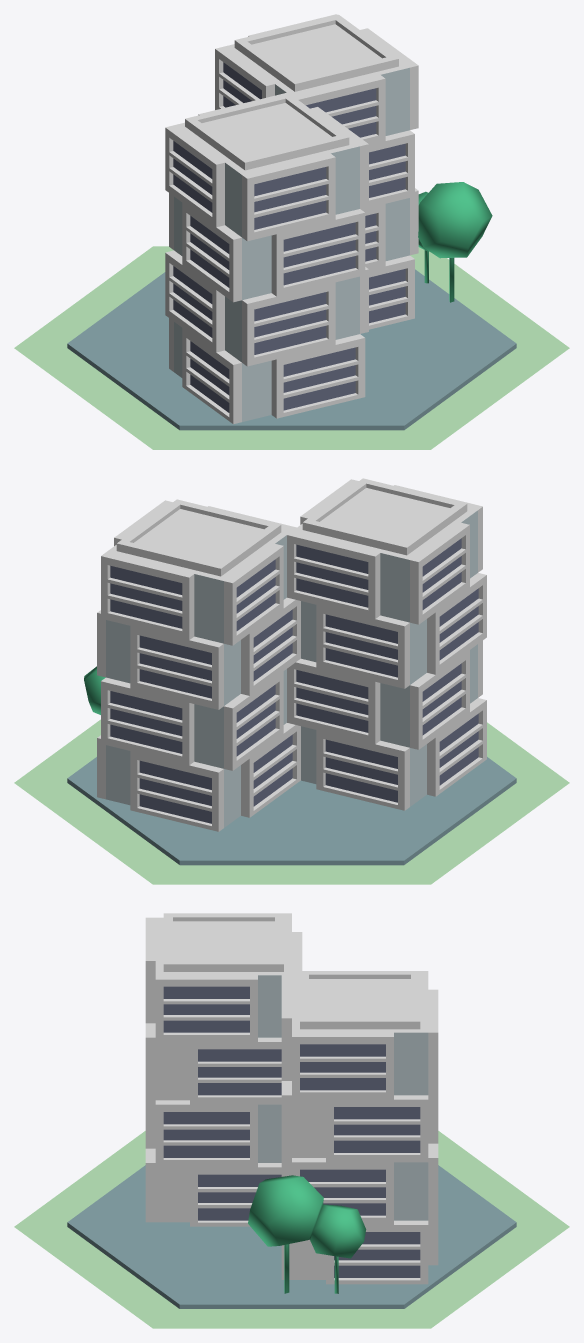
Rendered from Temp_Building4.fbx.
The picture shows the model from 3 angles, top to bottom: view 1: azimuth 30°, elevation 25°; view 2: azimuth 150°, elevation 25°; view 3: azimuth 270°, elevation 25°; orthographic projection.
Visible parts, largest first — view 1: 立方体.005; view 2: 立方体.005; view 3: 立方体.005.
Part boxes in pixels (x1,y1,x2,y2): 立方体.005: (14,14,569,449); 立方体.005: (14,478,569,884); 立方体.005: (14,913,569,1328).
Size of the model in its own units: 165 by 97.8 by 190.
